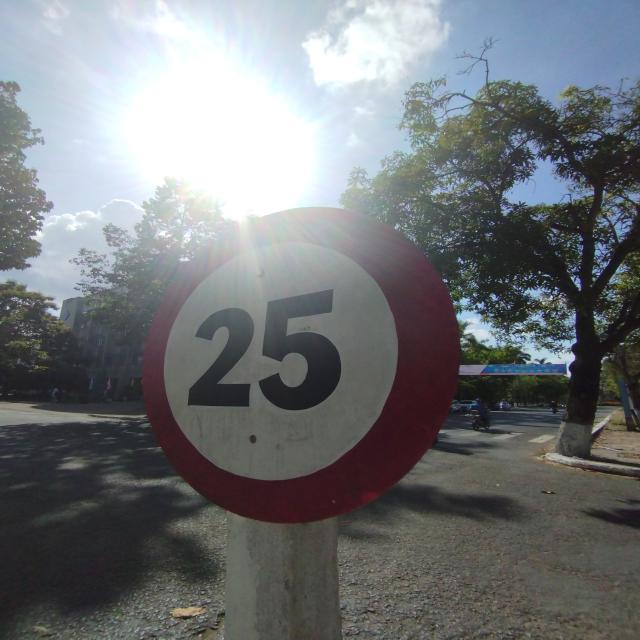Tre_Em: (138, 202, 465, 526)
